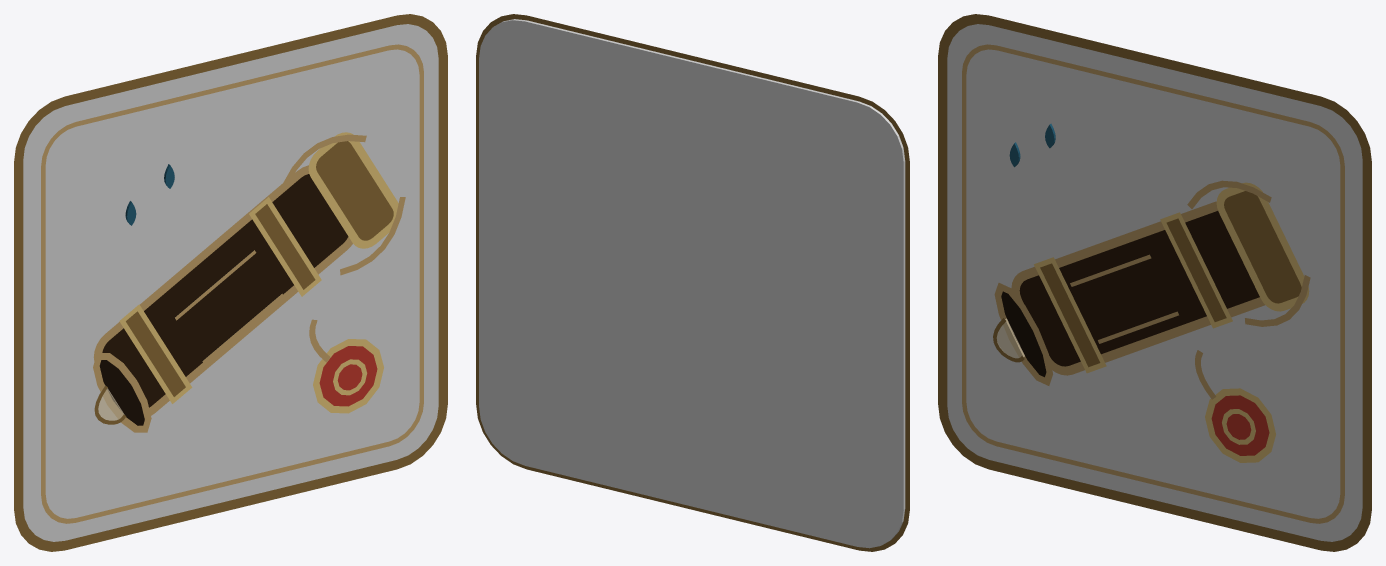
Rendered from obj-germetichny-futlyar.glb.
3 renders of one model, left to right at view 1: azimuth 30°, elevation 25°; view 2: azimuth 150°, elevation 25°; view 3: azimuth 330°, elevation 25°, orthographic.
Visible parts, largest first — view 1: obj-germetichny-futlyar; view 2: obj-germetichny-futlyar; view 3: obj-germetichny-futlyar.
Boxes of the visible parts, x1=… form: obj-germetichny-futlyar: x1=14, y1=14, x2=447, y2=551; obj-germetichny-futlyar: x1=476, y1=14, x2=909, y2=551; obj-germetichny-futlyar: x1=938, y1=14, x2=1371, y2=551.
Bounding box in the file's own units: 0.3917 × 0.3917 × 0.0375.
